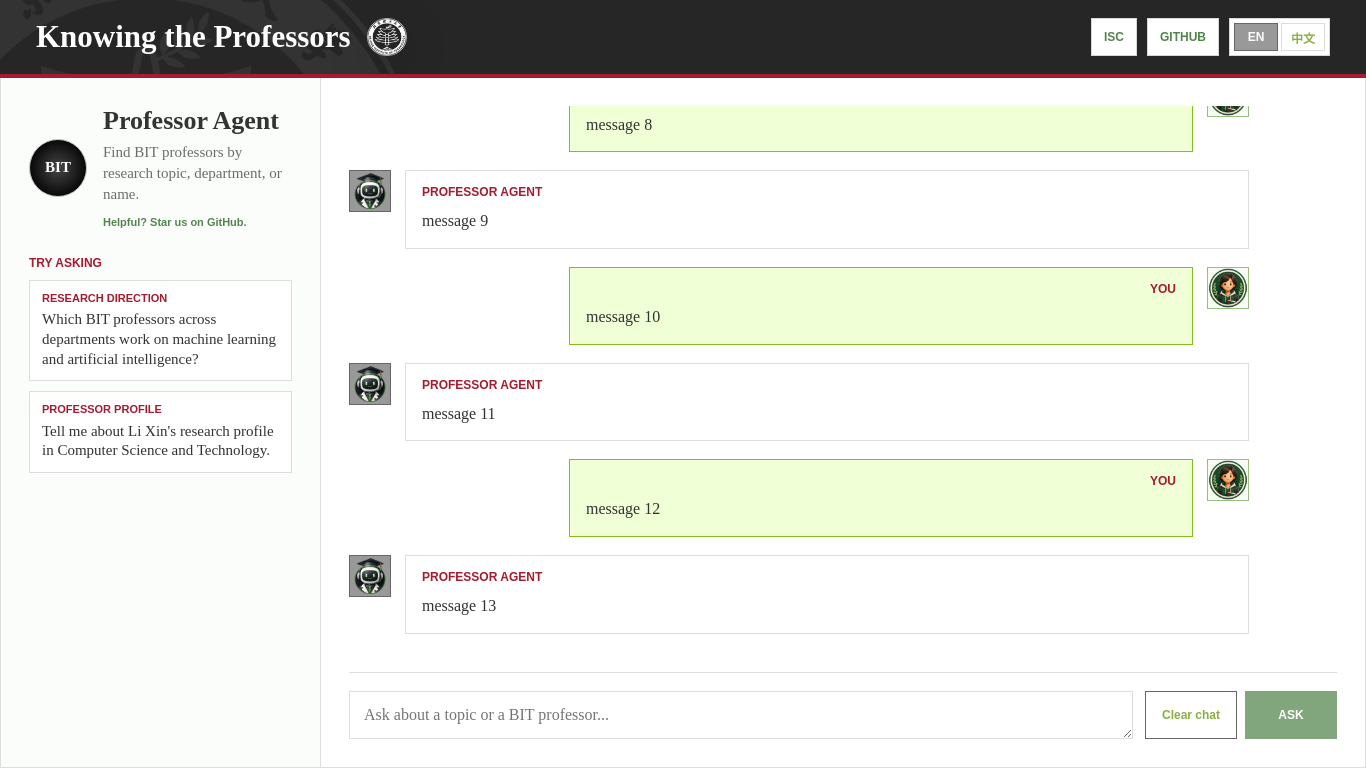
BIT Professor Agent frontend › sends only a bounded visible user and assistant history
The width and height of the screenshot is (1366, 768).
(page scrolled)
Type "Continue" into the text box with placeholder "Ask about a topic or a BIT professor..." at [741, 715], box [349, 691, 1133, 739]
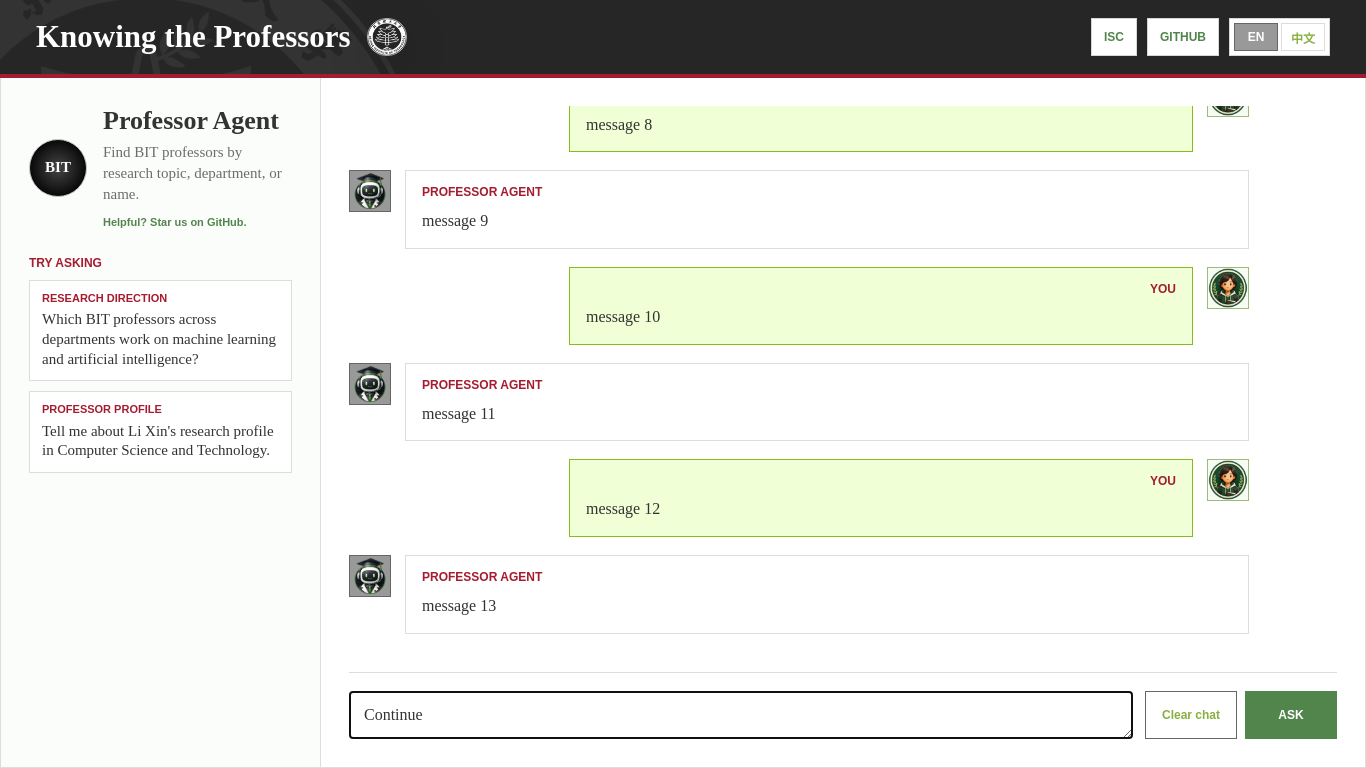
Click the button "ASK" at [1291, 715], box [1245, 691, 1337, 739]
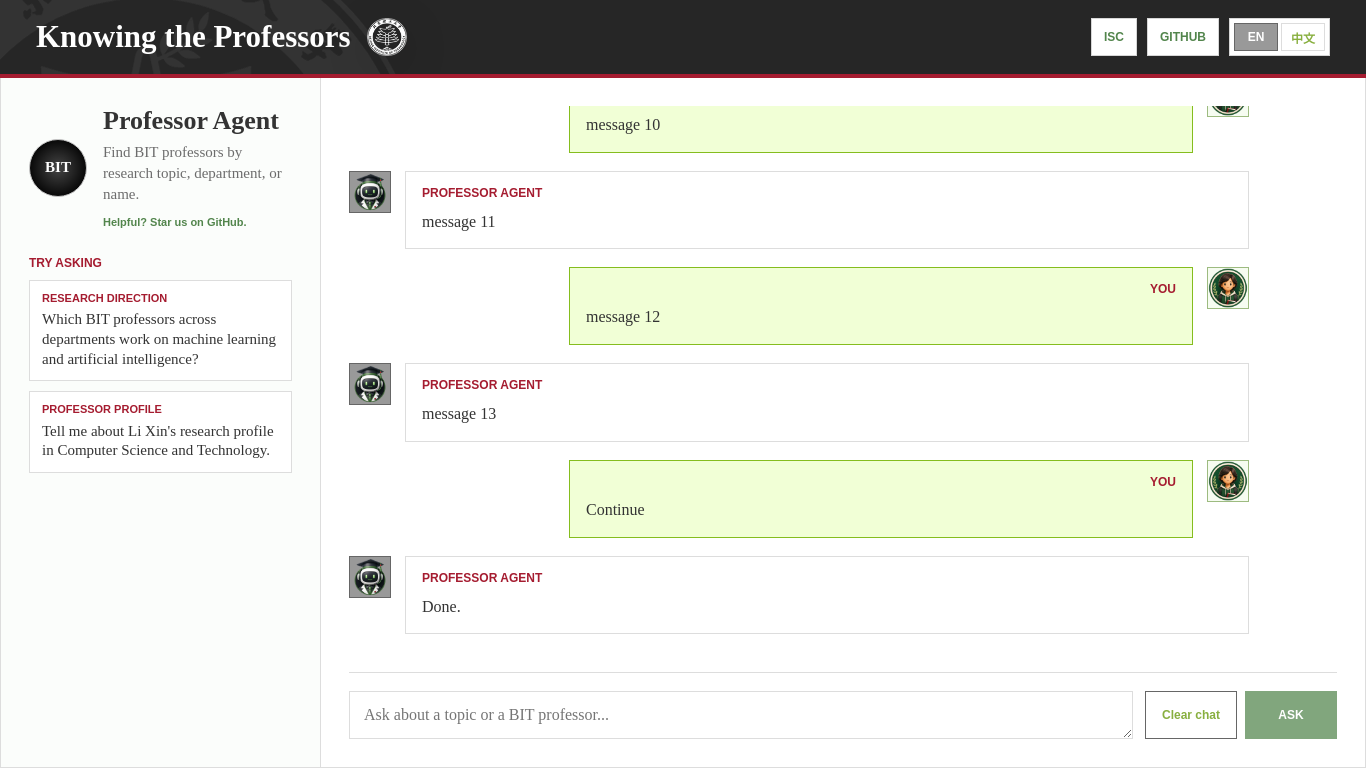
Check: the text "Done." is shown, box [422, 598, 461, 614]
Check: the text "Continue" is shown, box [586, 501, 645, 518]
